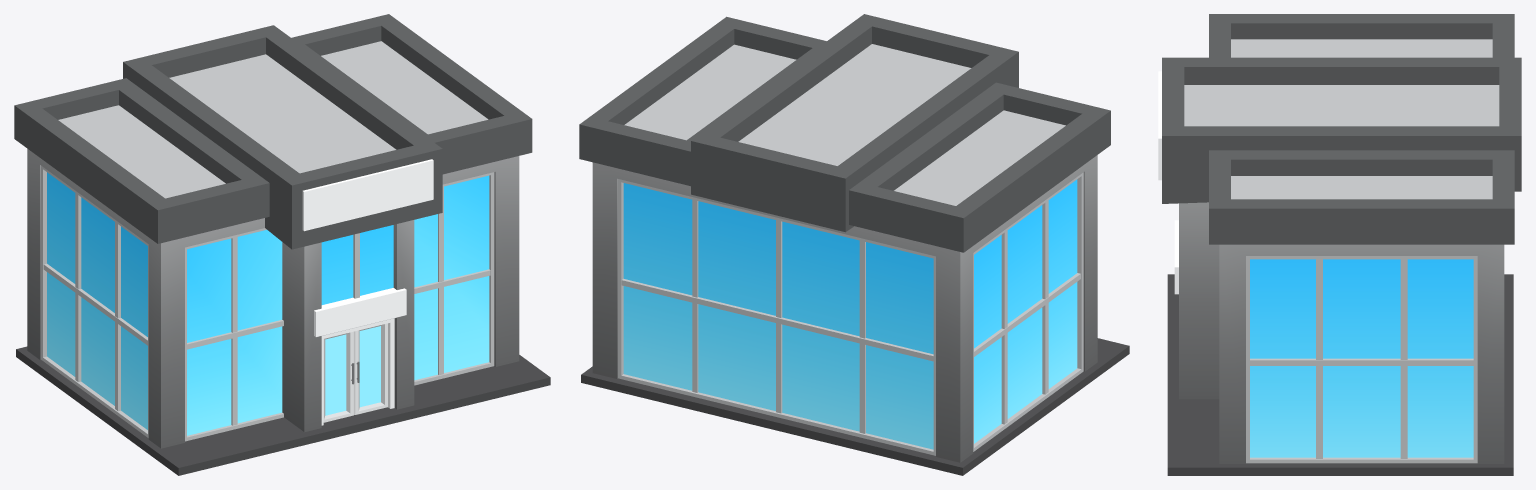
Rendered from Building_Supermarket_06.glb.
3 views of the same model, side by side, from view 1: azimuth 30°, elevation 25°; view 2: azimuth 150°, elevation 25°; view 3: azimuth 270°, elevation 25° (orthographic). The views are drawn at different scales.
Visible parts, largest first — view 1: Building_Supermarket_06; view 2: Building_Supermarket_06; view 3: Building_Supermarket_06.
Part boxes in pixels (x1,y1,x2,y2): Building_Supermarket_06: (14, 14, 550, 475); Building_Supermarket_06: (579, 14, 1129, 475); Building_Supermarket_06: (1158, 14, 1521, 475).
Size of the model in its own units: 9.93 by 6.73 by 7.83.
1 material, 1 textured.
